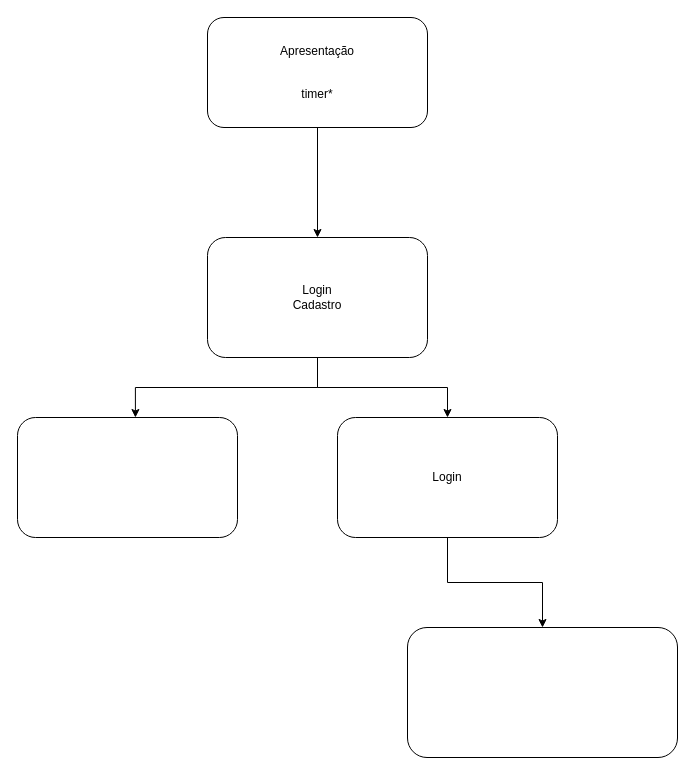
The diagram is 695 pixels wide and 775 high, and some of its shapes have lost their labels. The shapes that lost their labels are listed below. From the top down, each one's box as (x1, y1, x2, y2) in pixels, then its label:
(16, 416, 238, 538): Cadastro/treino
(406, 626, 678, 758): Home
